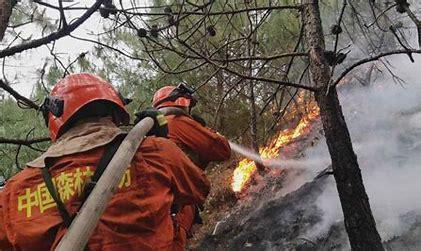smoke: (274, 83, 322, 152), (231, 142, 280, 195)
